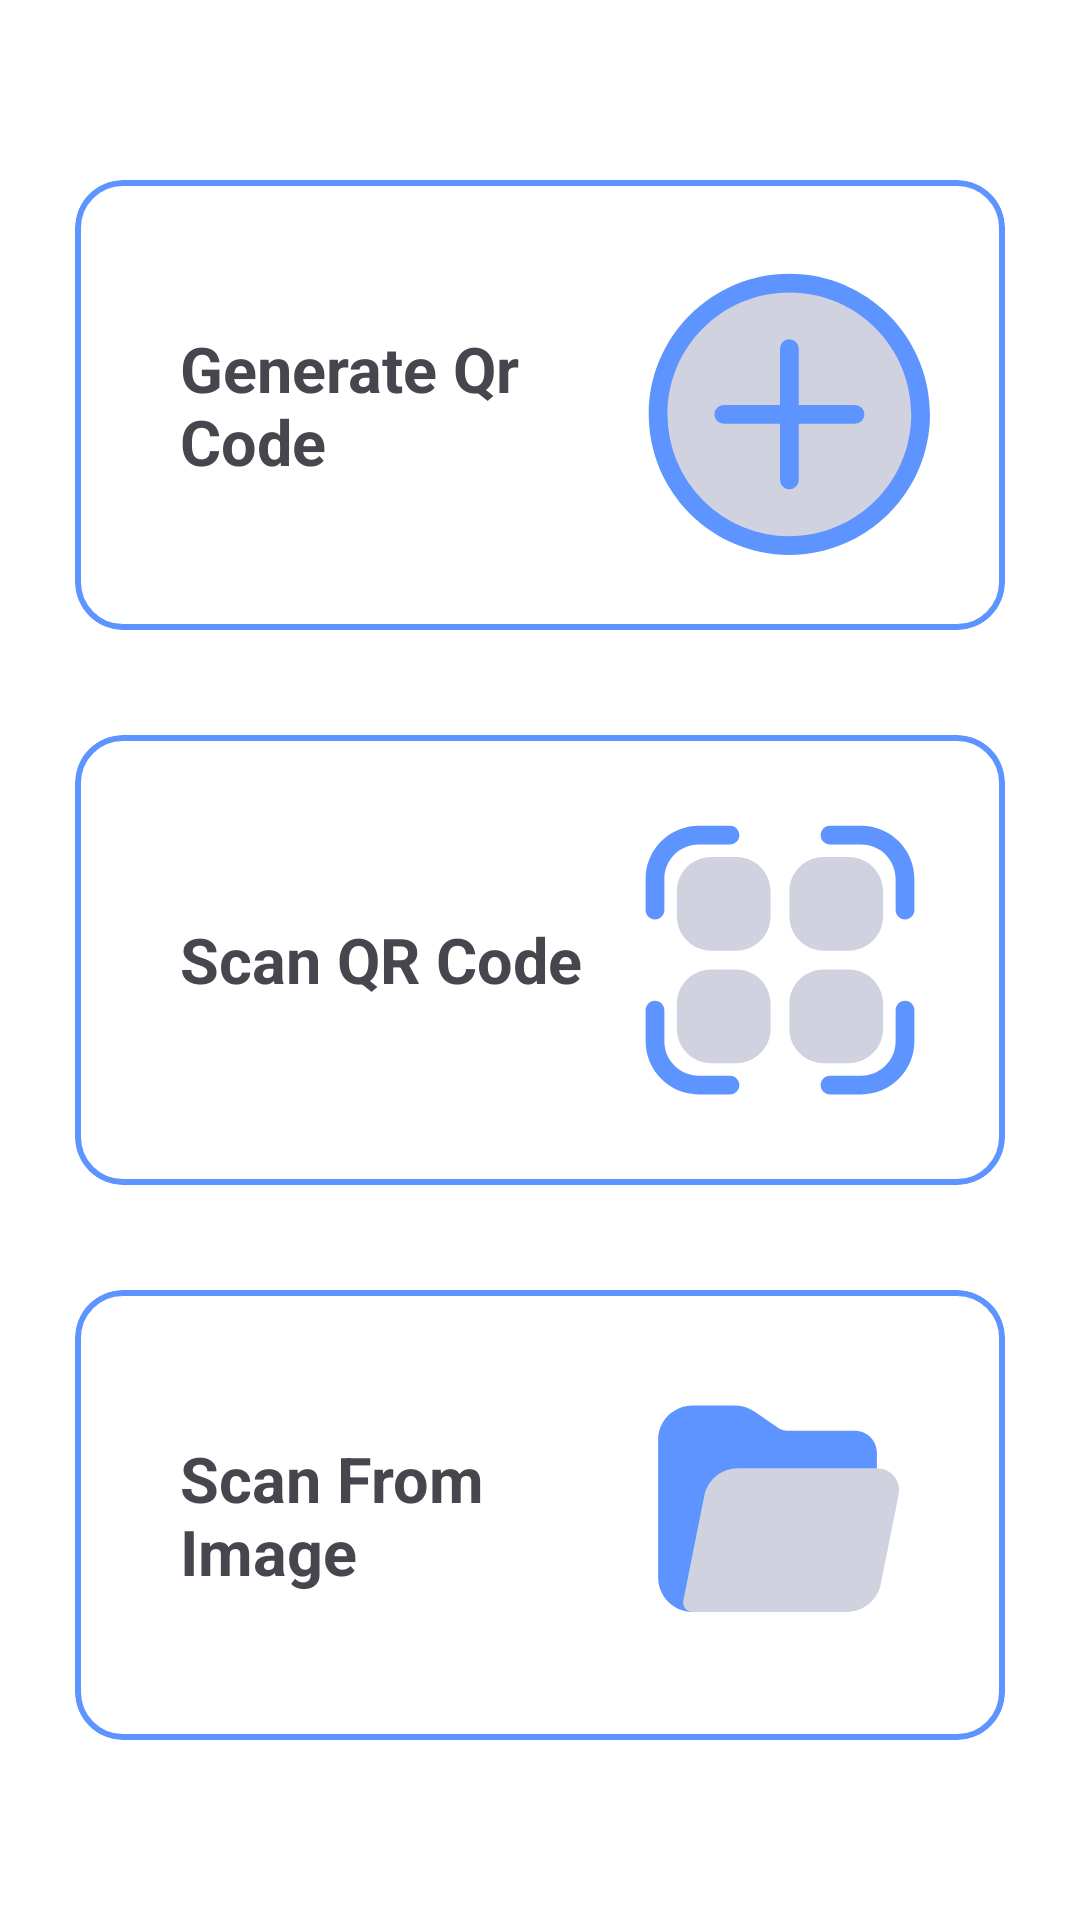

Named icons in this screenshot (1080 x 1920) and their bounding boxes, [left=x1, top=y1, right=x2, bottom=y2]:
gallery: [left=658, top=1405, right=899, bottom=1612]
